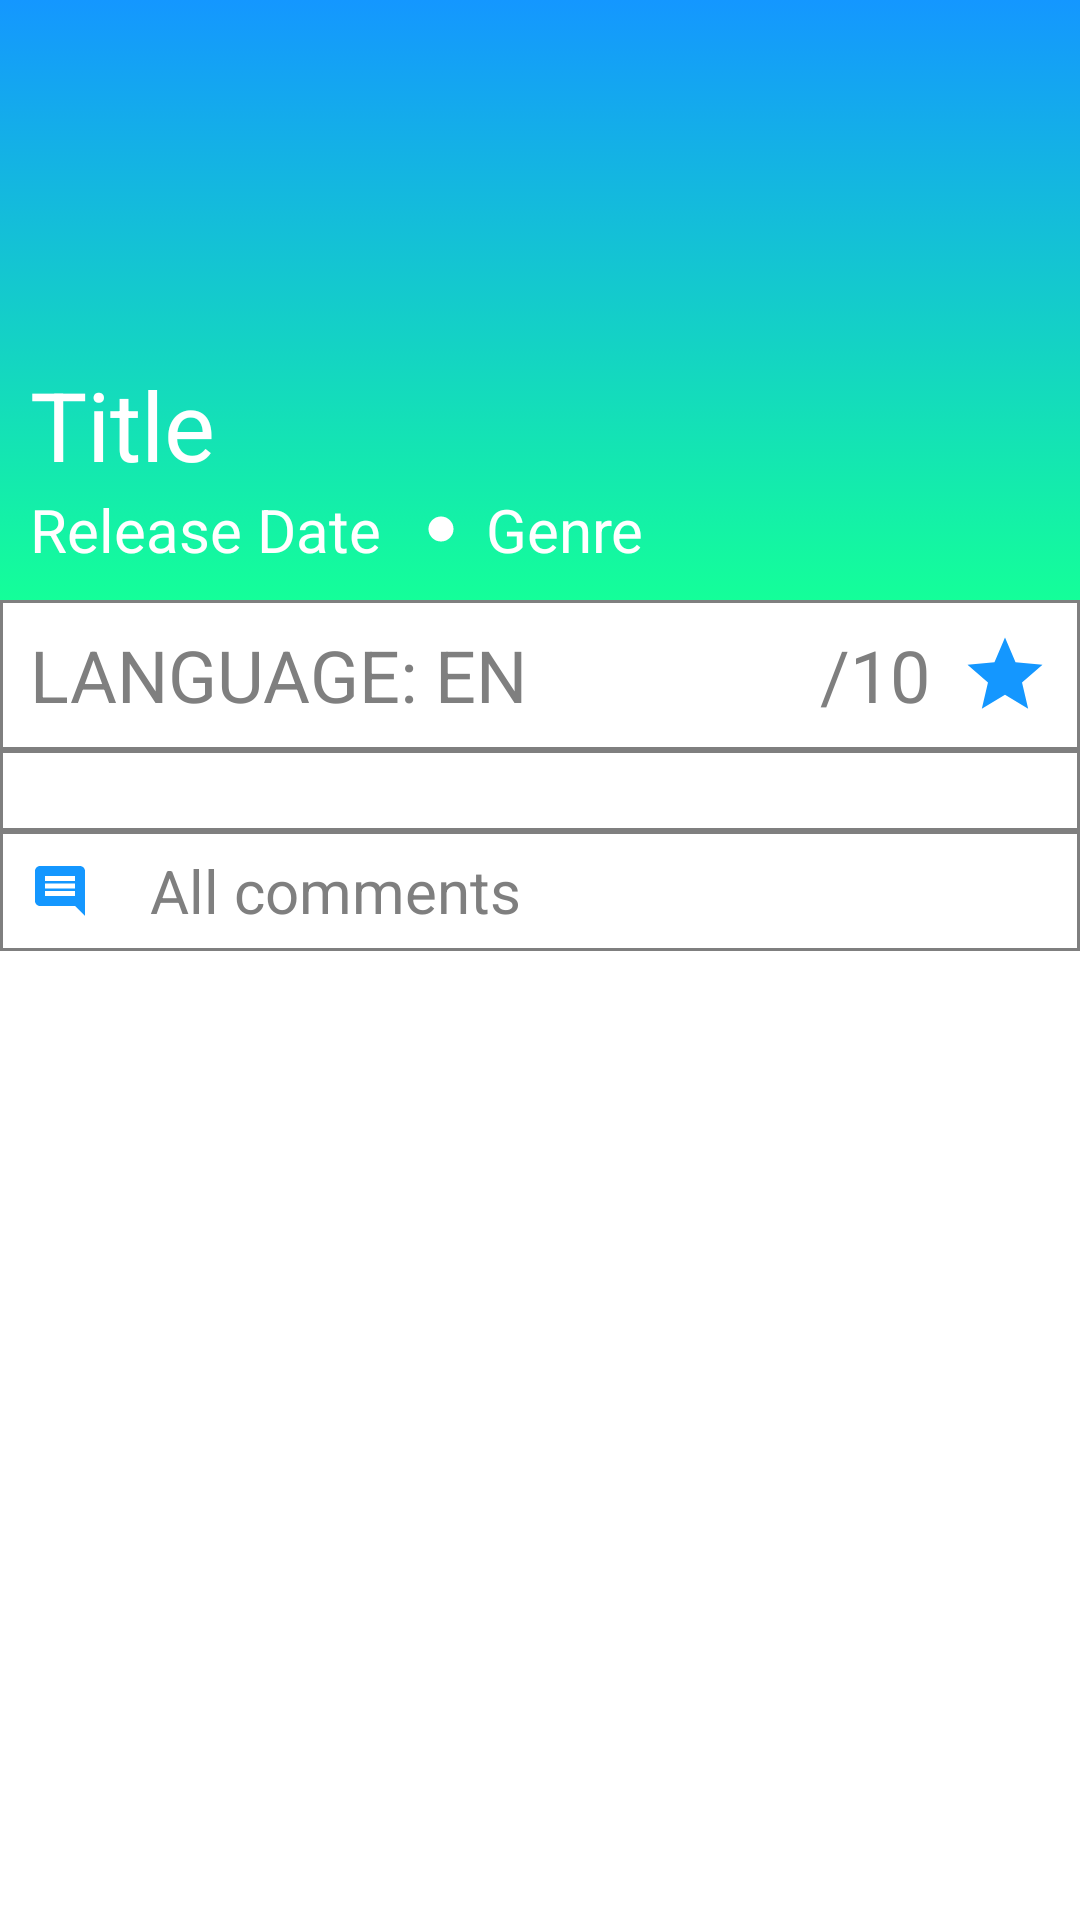

Named icons in this screenshot (1080w x 1920h) and their bounding boxes, (x1, y1, x2, y2):
dot: (428, 516, 454, 542)
star: (968, 638, 1042, 709)
